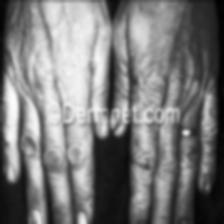Toxin: (149, 70, 167, 96), (82, 188, 94, 210), (132, 214, 144, 224)
